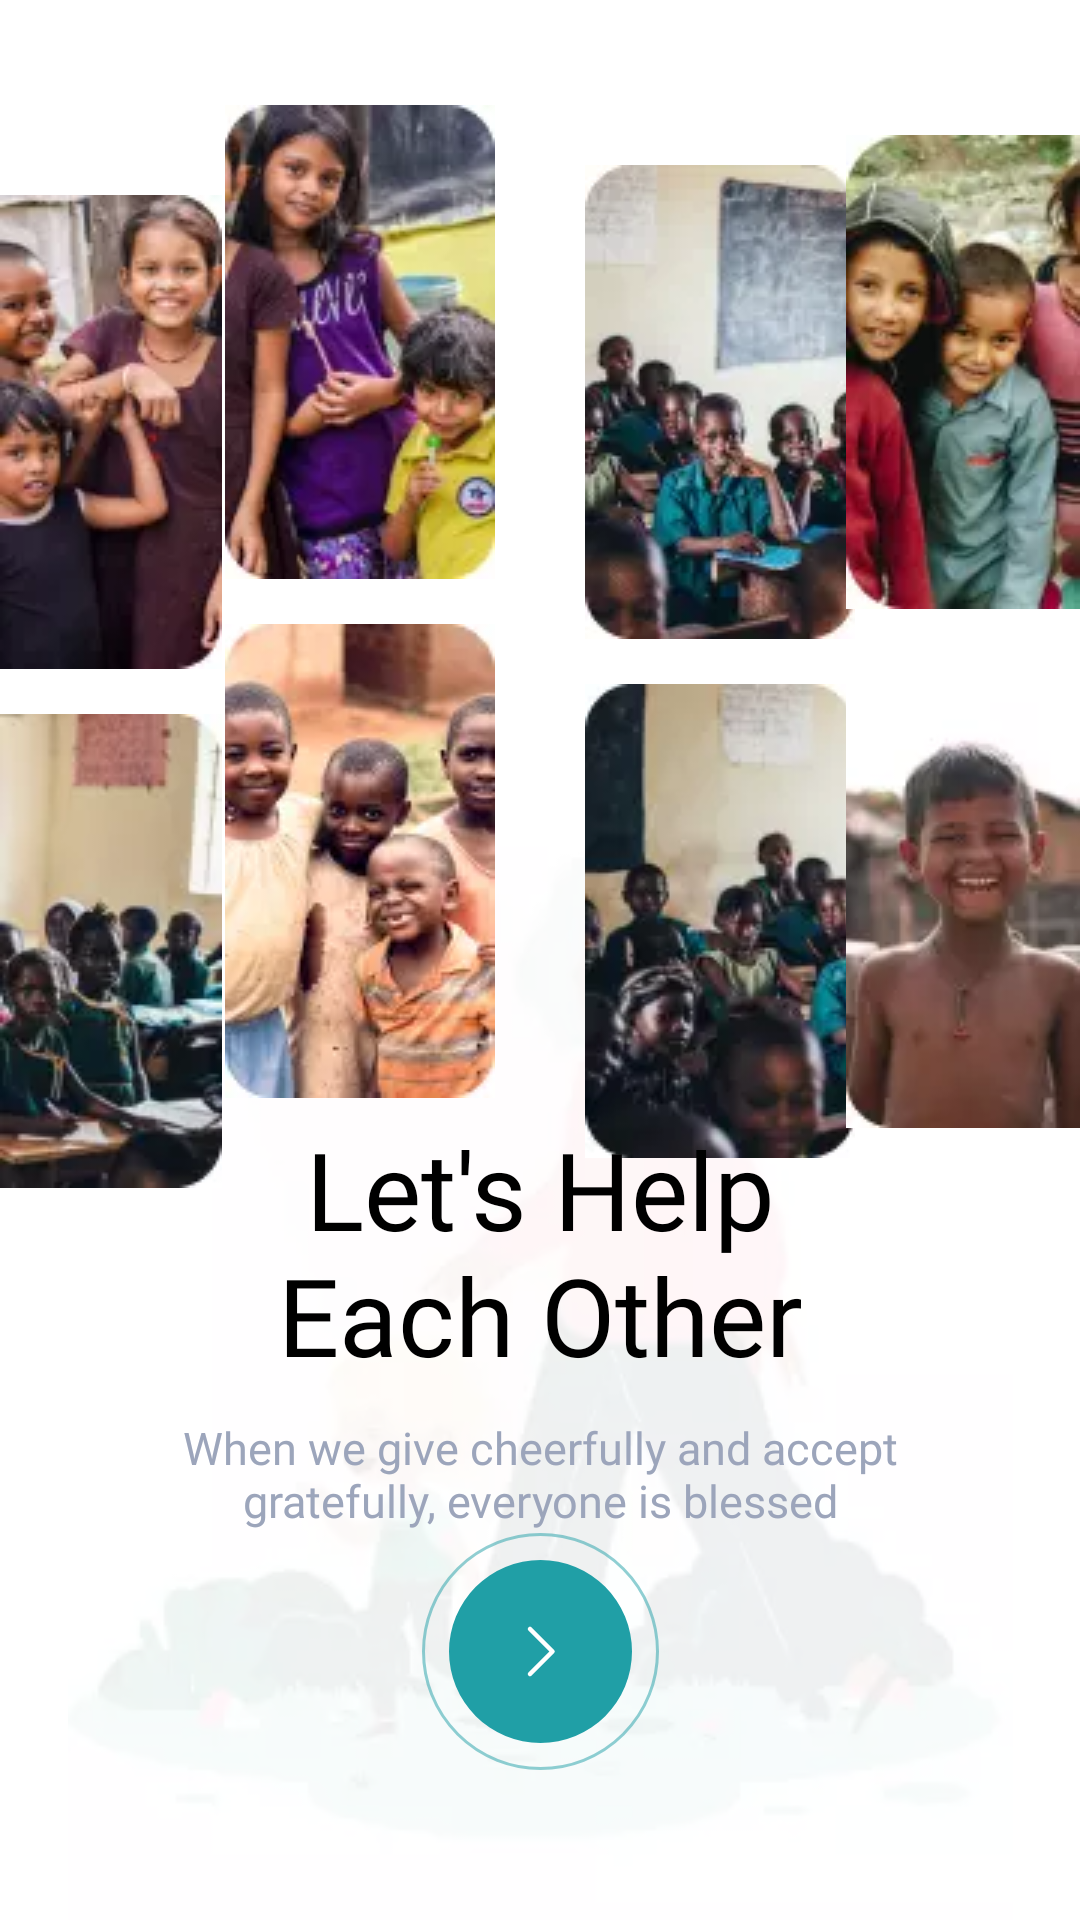

Icon bounding boxes for this 1080 x 1920 phone screenshot, format (x1, y1, x2, y2):
next: (422, 1533, 659, 1770)
